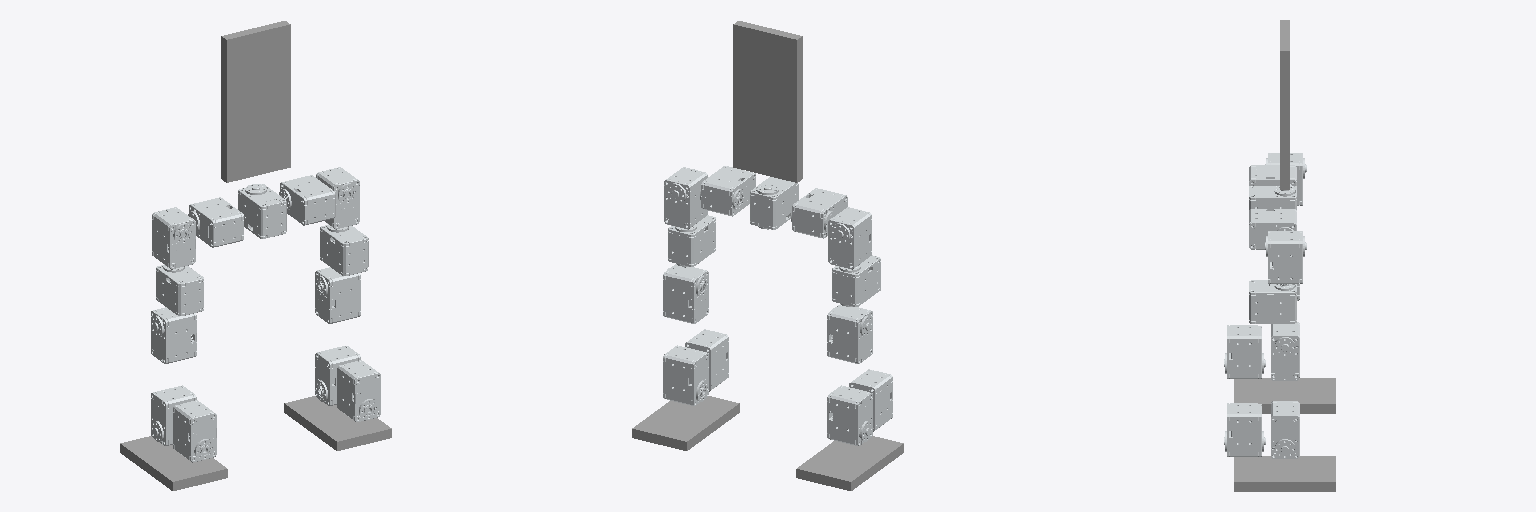
--- Facts derived from the render (not from the file) ---
The picture shows the robot from 3 angles, left to right: view 1: azimuth 30°, elevation 25°; view 2: azimuth 150°, elevation 25°; view 3: azimuth 270°, elevation 25°; orthographic projection.
Model phonebot_general_6motor with 29 links and 28 joints (13 revolute, 15 fixed), rooted at world, posed every joint at zero.
Visible links, largest first — view 1: trunk_link, l_end_effector, r_end_effector, l_ankle_roll, l_hip_roll, r_ankle_roll, l_hip_calf, r_hip_calf, base_motor_link, r_hip_pitch, r_hip_thigh, l_hip_pitch (+4 smaller); view 2: trunk_link, l_end_effector, r_end_effector, r_ankle_pitch, l_ankle_pitch, r_hip_calf, l_hip_calf, l_hip_roll, r_hip_roll, r_hip_pitch, base_motor_link, l_hip_pitch (+4 smaller); view 3: r_end_effector, l_end_effector, l_ankle_roll, r_ankle_roll, r_hip_thigh, r_hip_roll, trunk_link, r_ankle_pitch, r_hip_calf, r_hip_pitch, base_motor_link, l_hip_pitch (+1 smaller).
Boxes of the visible links, x1,y1,x2,y2 form: trunk_link: (221,21,290,182); l_end_effector: (120,436,227,490); r_end_effector: (284,396,391,450); l_ankle_roll: (173,400,216,462); l_hip_roll: (152,207,195,269); r_ankle_roll: (337,360,380,421); l_hip_calf: (151,307,196,363); r_hip_calf: (315,267,360,323); base_motor_link: (238,184,286,238); r_hip_pitch: (279,175,335,225); r_hip_thigh: (320,224,368,275); l_hip_pitch: (188,197,243,247); trunk_link: (733,21,802,182); l_end_effector: (796,436,903,490); r_end_effector: (632,396,739,450); r_ankle_pitch: (663,345,708,405); l_ankle_pitch: (827,385,872,445); r_hip_calf: (663,264,708,323); l_hip_calf: (827,304,872,363); l_hip_roll: (828,207,871,269); r_hip_roll: (664,167,707,228); r_hip_pitch: (700,166,755,216); base_motor_link: (750,177,798,229); l_hip_pitch: (791,188,847,238); r_end_effector: (1234,456,1335,491); l_end_effector: (1234,378,1335,413); l_ankle_roll: (1224,325,1265,378); r_ankle_roll: (1224,403,1265,456); r_hip_thigh: (1249,280,1296,323); r_hip_roll: (1265,231,1306,283); trunk_link: (1280,20,1289,189); r_ankle_pitch: (1271,401,1299,458); r_hip_calf: (1271,322,1299,378); r_hip_pitch: (1249,209,1296,249); base_motor_link: (1249,186,1296,209); l_hip_pitch: (1249,165,1296,185).
Bounding box of the posed robot: 0.24 × 0.11 × 0.435 m (x, y, z).
13 mesh visuals loaded from 1 distinct referenced files (1 binary STL).

The robot description file, URDF, robot "phonebot_general_6motor":
<?xml version='1.0' encoding='utf-8'?>
<robot name="phonebot_general_6motor">
  <!-- Add a world link so the robot is placed above the floor in URDF-based tools. -->
  <link name="world" />
  <joint name="world_to_base" type="fixed">
    <origin xyz="0.000000 0.000000 0.300000" rpy="0.000000 0.000000 0.000000" />
    <parent link="world" />
    <child link="base_motor_link" />
  </joint>
  <link name="base_motor_link">
    <visual>
      <origin xyz="0.000000 0.000000 0.000000" rpy="0.000000 0.000000 0.000000" />
      <geometry>
        <mesh filename="meshes/XL-430_new_coordinate_on_axis.STL" scale="0.001000 0.001000 0.001000" />
        </geometry>
      <material name="motor_mat">
        <color rgba="0.89804 0.91765 0.92941 1.0" />
        </material>
      </visual>
    <collision>
      <origin xyz="0.000000 -0.012000 0.000000" rpy="0.000000 0.000000 0.000000" />
      <geometry>
        <box size="0.028500 0.046500 0.034000" />
        </geometry>
      </collision>
    <inertial>
      <origin xyz="0.000000 -0.012000 0.000000" rpy="0.000000 0.000000 0.000000" />
      <mass value="0.065000" />
      <inertia ixx="0.000017973854" ixy="0" ixz="0" iyy="0.000010661354" iyz="0" izz="0.000016111875" />
      </inertial>
    </link>
  <link name="l_hip_pitch">
    <visual>
      <origin xyz="0.000000 0.000000 0.000000" rpy="0.000000 0.000000 0.000000" />
      <geometry>
        <mesh filename="meshes/XL-430_new_coordinate_on_axis.STL" scale="0.001000 0.001000 0.001000" />
        </geometry>
      <material name="motor_mat">
        <color rgba="0.89804 0.91765 0.92941 1.0" />
        </material>
      </visual>
    <collision>
      <origin xyz="0.000000 -0.012000 0.000000" rpy="0.000000 0.000000 0.000000" />
      <geometry>
        <box size="0.028500 0.046500 0.034000" />
        </geometry>
      </collision>
    <inertial>
      <origin xyz="0.000000 -0.012000 0.000000" rpy="0.000000 0.000000 0.000000" />
      <mass value="0.065000" />
      <inertia ixx="0.000017973854" ixy="0" ixz="0" iyy="0.000010661354" iyz="0" izz="0.000016111875" />
      </inertial>
    </link>
  <link name="l_hip_pitch_out">
    <inertial>
      <origin xyz="0.000000 0.000000 0.000000" rpy="0.000000 0.000000 0.000000" />
      <mass value="0.001000" />
      <inertia ixx="0.000000016667" ixy="0" ixz="0" iyy="0.000000016667" iyz="0" izz="0.000000016667" />
      </inertial>
    </link>
  <joint name="l_hip_pitch_mount_fixed" type="fixed">
    <origin xyz="-0.050000 0.000000 0.000000" rpy="0.000000 -1.570796 0.000000" />
    <parent link="base_motor_link" />
    <child link="l_hip_pitch" />
    </joint>
  <joint name="l_hip_pitch_joint" type="revolute">
    <origin xyz="0.000000 0.000000 0.000000" rpy="0.000000 0.000000 0.000000" />
    <parent link="l_hip_pitch" />
    <child link="l_hip_pitch_out" />
    <axis xyz="0.000000 0.000000 1.000000" />
    <limit lower="-3.14159" upper="3.14159" effort="5.0" velocity="8.0" />
    </joint>
  <link name="l_hip_roll">
    <visual>
      <origin xyz="0.000000 0.000000 0.000000" rpy="0.000000 0.000000 0.000000" />
      <geometry>
        <mesh filename="meshes/XL-430_new_coordinate_on_axis.STL" scale="0.001000 0.001000 0.001000" />
        </geometry>
      <material name="motor_mat">
        <color rgba="0.89804 0.91765 0.92941 1.0" />
        </material>
      </visual>
    <collision>
      <origin xyz="0.000000 -0.012000 0.000000" rpy="0.000000 0.000000 0.000000" />
      <geometry>
        <box size="0.028500 0.046500 0.034000" />
        </geometry>
      </collision>
    <inertial>
      <origin xyz="0.000000 -0.012000 0.000000" rpy="0.000000 0.000000 0.000000" />
      <mass value="0.065000" />
      <inertia ixx="0.000017973854" ixy="0" ixz="0" iyy="0.000010661354" iyz="0" izz="0.000016111875" />
      </inertial>
    </link>
  <link name="l_hip_roll_out">
    <inertial>
      <origin xyz="0.000000 0.000000 0.000000" rpy="0.000000 0.000000 0.000000" />
      <mass value="0.001000" />
      <inertia ixx="0.000000016667" ixy="0" ixz="0" iyy="0.000000016667" iyz="0" izz="0.000000016667" />
      </inertial>
    </link>
  <joint name="l_hip_roll_mount_fixed" type="fixed">
    <origin xyz="0.000000 0.000000 0.040000" rpy="0.000000 -1.570796 -1.570796" />
    <parent link="l_hip_pitch_out" />
    <child link="l_hip_roll" />
    </joint>
  <joint name="l_hip_roll_joint" type="revolute">
    <origin xyz="0.000000 0.000000 0.000000" rpy="0.000000 0.000000 0.000000" />
    <parent link="l_hip_roll" />
    <child link="l_hip_roll_out" />
    <axis xyz="0.000000 0.000000 1.000000" />
    <limit lower="-3.14159" upper="3.14159" effort="5.0" velocity="8.0" />
    </joint>
  <link name="l_hip_thigh">
    <visual>
      <origin xyz="0.000000 0.000000 0.000000" rpy="0.000000 0.000000 0.000000" />
      <geometry>
        <mesh filename="meshes/XL-430_new_coordinate_on_axis.STL" scale="0.001000 0.001000 0.001000" />
        </geometry>
      <material name="motor_mat">
        <color rgba="0.89804 0.91765 0.92941 1.0" />
        </material>
      </visual>
    <collision>
      <origin xyz="0.000000 -0.012000 0.000000" rpy="0.000000 0.000000 0.000000" />
      <geometry>
        <box size="0.028500 0.046500 0.034000" />
        </geometry>
      </collision>
    <inertial>
      <origin xyz="0.000000 -0.012000 0.000000" rpy="0.000000 0.000000 0.000000" />
      <mass value="0.065000" />
      <inertia ixx="0.000017973854" ixy="0" ixz="0" iyy="0.000010661354" iyz="0" izz="0.000016111875" />
      </inertial>
    </link>
  <link name="l_hip_thigh_out">
    <inertial>
      <origin xyz="0.000000 0.000000 0.000000" rpy="0.000000 0.000000 0.000000" />
      <mass value="0.001000" />
      <inertia ixx="0.000000016667" ixy="0" ixz="0" iyy="0.000000016667" iyz="0" izz="0.000000016667" />
      </inertial>
    </link>
  <joint name="l_hip_thigh_mount_fixed" type="fixed">
    <origin xyz="0.000000 -0.060000 0.000000" rpy="1.570796 0.000000 0.000000" />
    <parent link="l_hip_roll_out" />
    <child link="l_hip_thigh" />
    </joint>
  <joint name="l_hip_thigh_joint" type="revolute">
    <origin xyz="0.000000 0.000000 0.000000" rpy="0.000000 0.000000 0.000000" />
    <parent link="l_hip_thigh" />
    <child link="l_hip_thigh_out" />
    <axis xyz="0.000000 0.000000 1.000000" />
    <limit lower="-3.14159" upper="3.14159" effort="5.0" velocity="8.0" />
    </joint>
  <link name="l_hip_calf">
    <visual>
      <origin xyz="0.000000 0.000000 0.000000" rpy="0.000000 0.000000 0.000000" />
      <geometry>
        <mesh filename="meshes/XL-430_new_coordinate_on_axis.STL" scale="0.001000 0.001000 0.001000" />
        </geometry>
      <material name="motor_mat">
        <color rgba="0.89804 0.91765 0.92941 1.0" />
        </material>
      </visual>
    <collision>
      <origin xyz="0.000000 -0.012000 0.000000" rpy="0.000000 0.000000 0.000000" />
      <geometry>
        <box size="0.028500 0.046500 0.034000" />
        </geometry>
      </collision>
    <inertial>
      <origin xyz="0.000000 -0.012000 0.000000" rpy="0.000000 0.000000 0.000000" />
      <mass value="0.065000" />
      <inertia ixx="0.000017973854" ixy="0" ixz="0" iyy="0.000010661354" iyz="0" izz="0.000016111875" />
      </inertial>
    </link>
  <link name="l_hip_calf_out">
    <inertial>
      <origin xyz="0.000000 0.000000 0.000000" rpy="0.000000 0.000000 0.000000" />
      <mass value="0.001000" />
      <inertia ixx="0.000000016667" ixy="0" ixz="0" iyy="0.000000016667" iyz="0" izz="0.000000016667" />
      </inertial>
    </link>
  <joint name="l_hip_calf_joint" type="revolute">
    <origin xyz="0.000000 0.000000 0.040000" rpy="-1.570796 0.000000 -1.570796" />
    <parent link="l_hip_thigh_out" />
    <child link="l_hip_calf" />
    <axis xyz="0.000000 0.000000 1.000000" />
    <limit lower="-3.14159" upper="3.14159" effort="5.0" velocity="8.0" />
    </joint>
  <joint name="l_hip_calf_to_out_fixed" type="fixed">
    <origin xyz="0.000000 0.000000 0.000000" rpy="0.000000 0.000000 0.000000" />
    <parent link="l_hip_calf" />
    <child link="l_hip_calf_out" />
    </joint>
  <link name="l_ankle_pitch">
    <visual>
      <origin xyz="0.000000 0.000000 0.000000" rpy="0.000000 0.000000 0.000000" />
      <geometry>
        <mesh filename="meshes/XL-430_new_coordinate_on_axis.STL" scale="0.001000 0.001000 0.001000" />
        </geometry>
      <material name="motor_mat">
        <color rgba="0.89804 0.91765 0.92941 1.0" />
        </material>
      </visual>
    <collision>
      <origin xyz="0.000000 -0.012000 0.000000" rpy="0.000000 0.000000 0.000000" />
      <geometry>
        <box size="0.028500 0.046500 0.034000" />
        </geometry>
      </collision>
    <inertial>
      <origin xyz="0.000000 -0.012000 0.000000" rpy="0.000000 0.000000 0.000000" />
      <mass value="0.065000" />
      <inertia ixx="0.000017973854" ixy="0" ixz="0" iyy="0.000010661354" iyz="0" izz="0.000016111875" />
      </inertial>
    </link>
  <link name="l_ankle_pitch_out">
    <inertial>
      <origin xyz="0.000000 0.000000 0.000000" rpy="0.000000 0.000000 0.000000" />
      <mass value="0.001000" />
      <inertia ixx="0.000000016667" ixy="0" ixz="0" iyy="0.000000016667" iyz="0" izz="0.000000016667" />
      </inertial>
    </link>
  <joint name="l_ankle_pitch_joint" type="revolute">
    <origin xyz="0.000000 -0.110000 0.000000" rpy="0.000000 0.000000 3.141593" />
    <parent link="l_hip_calf_out" />
    <child link="l_ankle_pitch" />
    <axis xyz="0.000000 0.000000 1.000000" />
    <limit lower="-3.14159" upper="3.14159" effort="5.0" velocity="8.0" />
    </joint>
  <joint name="l_ankle_pitch_to_out_fixed" type="fixed">
    <origin xyz="0.000000 0.000000 0.000000" rpy="0.000000 0.000000 0.000000" />
    <parent link="l_ankle_pitch" />
    <child link="l_ankle_pitch_out" />
    </joint>
  <link name="l_ankle_roll">
    <visual>
      <origin xyz="0.000000 0.000000 0.000000" rpy="0.000000 0.000000 0.000000" />
      <geometry>
        <mesh filename="meshes/XL-430_new_coordinate_on_axis.STL" scale="0.001000 0.001000 0.001000" />
        </geometry>
      <material name="motor_mat">
        <color rgba="0.89804 0.91765 0.92941 1.0" />
        </material>
      </visual>
    <collision>
      <origin xyz="0.000000 -0.012000 0.000000" rpy="0.000000 0.000000 0.000000" />
      <geometry>
        <box size="0.028500 0.046500 0.034000" />
        </geometry>
      </collision>
    <inertial>
      <origin xyz="0.000000 -0.012000 0.000000" rpy="0.000000 0.000000 0.000000" />
      <mass value="0.065000" />
      <inertia ixx="0.000017973854" ixy="0" ixz="0" iyy="0.000010661354" iyz="0" izz="0.000016111875" />
      </inertial>
    </link>
  <link name="l_ankle_roll_out">
    <inertial>
      <origin xyz="0.000000 0.000000 0.000000" rpy="0.000000 0.000000 0.000000" />
      <mass value="0.001000" />
      <inertia ixx="0.000000016667" ixy="0" ixz="0" iyy="0.000000016667" iyz="0" izz="0.000000016667" />
      </inertial>
    </link>
  <joint name="l_ankle_roll_mount_fixed" type="fixed">
    <origin xyz="-0.040000 0.000000 0.000000" rpy="0.000000 1.570796 0.000000" />
    <parent link="l_ankle_pitch_out" />
    <child link="l_ankle_roll" />
    </joint>
  <joint name="l_ankle_roll_joint" type="revolute">
    <origin xyz="0.000000 0.000000 0.000000" rpy="0.000000 0.000000 0.000000" />
    <parent link="l_ankle_roll" />
    <child link="l_ankle_roll_out" />
    <axis xyz="0.000000 0.000000 1.000000" />
    <limit lower="-3.14159" upper="3.14159" effort="5.0" velocity="8.0" />
    </joint>
  <link name="l_end_effector">
    <visual>
      <origin xyz="0.000000 0.000000 0.000000" rpy="0.000000 0.000000 0.000000" />
      <geometry>
        <box size="0.100000 0.060000 0.010000" />
        </geometry>
      <material name="box_mat">
        <color rgba="0.7 0.7 0.7 1.0" />
        </material>
      </visual>
    <collision>
      <origin xyz="0.000000 0.000000 0.000000" rpy="0.000000 0.000000 0.000000" />
      <geometry>
        <box size="0.100000 0.060000 0.010000" />
        </geometry>
      </collision>
    <inertial>
      <origin xyz="0.000000 0.000000 0.000000" rpy="0.000000 0.000000 0.000000" />
      <mass value="0.050000" />
      <inertia ixx="0.000015416667" ixy="0" ixz="0" iyy="0.000042083333" iyz="0" izz="0.000056666667" />
      </inertial>
    </link>
  <joint name="l_end_effector_fixed" type="fixed">
    <origin xyz="0.000000 0.035000 0.040000" rpy="1.570796 -1.570796 0.000000" />
    <parent link="l_ankle_roll_out" />
    <child link="l_end_effector" />
    </joint>
  <link name="r_hip_pitch">
    <visual>
      <origin xyz="0.000000 0.000000 0.000000" rpy="0.000000 0.000000 0.000000" />
      <geometry>
        <mesh filename="meshes/XL-430_new_coordinate_on_axis.STL" scale="0.001000 0.001000 0.001000" />
        </geometry>
      <material name="motor_mat">
        <color rgba="0.89804 0.91765 0.92941 1.0" />
        </material>
      </visual>
    <collision>
      <origin xyz="0.000000 -0.012000 0.000000" rpy="0.000000 0.000000 0.000000" />
      <geometry>
        <box size="0.028500 0.046500 0.034000" />
        </geometry>
      </collision>
    <inertial>
      <origin xyz="0.000000 -0.012000 0.000000" rpy="0.000000 0.000000 0.000000" />
      <mass value="0.065000" />
      <inertia ixx="0.000017973854" ixy="0" ixz="0" iyy="0.000010661354" iyz="0" izz="0.000016111875" />
      </inertial>
    </link>
  <link name="r_hip_pitch_out">
    <inertial>
      <origin xyz="0.000000 0.000000 0.000000" rpy="0.000000 0.000000 0.000000" />
      <mass value="0.001000" />
      <inertia ixx="0.000000016667" ixy="0" ixz="0" iyy="0.000000016667" iyz="0" izz="0.000000016667" />
      </inertial>
    </link>
  <joint name="r_hip_pitch_mount_fixed" type="fixed">
    <origin xyz="0.050000 0.000000 0.000000" rpy="0.000000 1.570796 -0.000000" />
    <parent link="base_motor_link" />
    <child link="r_hip_pitch" />
    </joint>
  <joint name="r_hip_pitch_joint" type="revolute">
    <origin xyz="0.000000 0.000000 0.000000" rpy="0.000000 0.000000 0.000000" />
    <parent link="r_hip_pitch" />
    <child link="r_hip_pitch_out" />
    <axis xyz="0.000000 0.000000 1.000000" />
    <limit lower="-3.14159" upper="3.14159" effort="5.0" velocity="8.0" />
    </joint>
  <link name="r_hip_roll">
    <visual>
      <origin xyz="0.000000 0.000000 0.000000" rpy="0.000000 0.000000 0.000000" />
      <geometry>
        <mesh filename="meshes/XL-430_new_coordinate_on_axis.STL" scale="0.001000 0.001000 0.001000" />
        </geometry>
      <material name="motor_mat">
        <color rgba="0.89804 0.91765 0.92941 1.0" />
        </material>
      </visual>
    <collision>
      <origin xyz="0.000000 -0.012000 0.000000" rpy="0.000000 0.000000 0.000000" />
      <geometry>
        <box size="0.028500 0.046500 0.034000" />
        </geometry>
      </collision>
    <inertial>
      <origin xyz="0.000000 -0.012000 0.000000" rpy="0.000000 0.000000 0.000000" />
      <mass value="0.065000" />
      <inertia ixx="0.000017973854" ixy="0" ixz="0" iyy="0.000010661354" iyz="0" izz="0.000016111875" />
      </inertial>
    </link>
  <link name="r_hip_roll_out">
    <inertial>
      <origin xyz="0.000000 0.000000 0.000000" rpy="0.000000 0.000000 0.000000" />
      <mass value="0.001000" />
      <inertia ixx="0.000000016667" ixy="0" ixz="0" iyy="0.000000016667" iyz="0" izz="0.000000016667" />
      </inertial>
    </link>
  <joint name="r_hip_roll_mount_fixed" type="fixed">
    <origin xyz="-0.000000 0.000000 0.040000" rpy="0.000000 1.570796 1.570796" />
    <parent link="r_hip_pitch_out" />
    <child link="r_hip_roll" />
    </joint>
  <joint name="r_hip_roll_joint" type="revolute">
    <origin xyz="0.000000 0.000000 0.000000" rpy="0.000000 0.000000 0.000000" />
    <parent link="r_hip_roll" />
    <child link="r_hip_roll_out" />
    <axis xyz="0.000000 0.000000 1.000000" />
    <limit lower="-3.14159" upper="3.14159" effort="5.0" velocity="8.0" />
    </joint>
  <link name="r_hip_thigh">
    <visual>
      <origin xyz="0.000000 0.000000 0.000000" rpy="0.000000 0.000000 0.000000" />
      <geometry>
        <mesh filename="meshes/XL-430_new_coordinate_on_axis.STL" scale="0.001000 0.001000 0.001000" />
        </geometry>
      <material name="motor_mat">
        <color rgba="0.89804 0.91765 0.92941 1.0" />
        </material>
      </visual>
    <collision>
      <origin xyz="0.000000 -0.012000 0.000000" rpy="0.000000 0.000000 0.000000" />
      <geometry>
        <box size="0.028500 0.046500 0.034000" />
        </geometry>
      </collision>
    <inertial>
      <origin xyz="0.000000 -0.012000 0.000000" rpy="0.000000 0.000000 0.000000" />
      <mass value="0.065000" />
      <inertia ixx="0.000017973854" ixy="0" ixz="0" iyy="0.000010661354" iyz="0" izz="0.000016111875" />
      </inertial>
    </link>
  <link name="r_hip_thigh_out">
    <inertial>
      <origin xyz="0.000000 0.000000 0.000000" rpy="0.000000 0.000000 0.000000" />
      <mass value="0.001000" />
      <inertia ixx="0.000000016667" ixy="0" ixz="0" iyy="0.000000016667" iyz="0" izz="0.000000016667" />
      </inertial>
    </link>
  <joint name="r_hip_thigh_mount_fixed" type="fixed">
    <origin xyz="-0.000000 -0.060000 0.000000" rpy="1.570796 -0.000000 0.000000" />
    <parent link="r_hip_roll_out" />
    <child link="r_hip_thigh" />
    </joint>
  <joint name="r_hip_thigh_joint" type="revolute">
    <origin xyz="0.000000 0.000000 0.000000" rpy="0.000000 0.000000 0.000000" />
    <parent link="r_hip_thigh" />
    <child link="r_hip_thigh_out" />
    <axis xyz="0.000000 0.000000 1.000000" />
    <limit lower="-3.14159" upper="3.14159" effort="5.0" velocity="8.0" />
    </joint>
  <link name="r_hip_calf">
    <visual>
      <origin xyz="0.000000 0.000000 0.000000" rpy="0.000000 0.000000 0.000000" />
      <geometry>
        <mesh filename="meshes/XL-430_new_coordinate_on_axis.STL" scale="0.001000 0.001000 0.001000" />
        </geometry>
      <material name="motor_mat">
        <color rgba="0.89804 0.91765 0.92941 1.0" />
        </material>
      </visual>
    <collision>
      <origin xyz="0.000000 -0.012000 0.000000" rpy="0.000000 0.000000 0.000000" />
      <geometry>
        <box size="0.028500 0.046500 0.034000" />
        </geometry>
      </collision>
    <inertial>
      <origin xyz="0.000000 -0.012000 0.000000" rpy="0.000000 0.000000 0.000000" />
      <mass value="0.065000" />
      <inertia ixx="0.000017973854" ixy="0" ixz="0" iyy="0.000010661354" iyz="0" izz="0.000016111875" />
      </inertial>
    </link>
  <link name="r_hip_calf_out">
    <inertial>
      <origin xyz="0.000000 0.000000 0.000000" rpy="0.000000 0.000000 0.000000" />
      <mass value="0.001000" />
      <inertia ixx="0.000000016667" ixy="0" ixz="0" iyy="0.000000016667" iyz="0" izz="0.000000016667" />
      </inertial>
    </link>
  <joint name="r_hip_calf_joint" type="revolute">
    <origin xyz="-0.000000 0.000000 0.040000" rpy="-1.570796 -0.000000 1.570796" />
    <parent link="r_hip_thigh_out" />
    <child link="r_hip_calf" />
    <axis xyz="0.000000 0.000000 1.000000" />
    <limit lower="-3.14159" upper="3.14159" effort="5.0" velocity="8.0" />
    </joint>
  <joint name="r_hip_calf_to_out_fixed" type="fixed">
    <origin xyz="0.000000 0.000000 0.000000" rpy="0.000000 0.000000 0.000000" />
    <parent link="r_hip_calf" />
    <child link="r_hip_calf_out" />
    </joint>
  <link name="r_ankle_pitch">
    <visual>
      <origin xyz="0.000000 0.000000 0.000000" rpy="0.000000 0.000000 0.000000" />
      <geometry>
        <mesh filename="meshes/XL-430_new_coordinate_on_axis.STL" scale="0.001000 0.001000 0.001000" />
        </geometry>
      <material name="motor_mat">
        <color rgba="0.89804 0.91765 0.92941 1.0" />
        </material>
      </visual>
    <collision>
      <origin xyz="0.000000 -0.012000 0.000000" rpy="0.000000 0.000000 0.000000" />
      <geometry>
        <box size="0.028500 0.046500 0.034000" />
        </geometry>
      </collision>
    <inertial>
      <origin xyz="0.000000 -0.012000 0.000000" rpy="0.000000 0.000000 0.000000" />
      <mass value="0.065000" />
      <inertia ixx="0.000017973854" ixy="0" ixz="0" iyy="0.000010661354" iyz="0" izz="0.000016111875" />
      </inertial>
    </link>
  <link name="r_ankle_pitch_out">
    <inertial>
      <origin xyz="0.000000 0.000000 0.000000" rpy="0.000000 0.000000 0.000000" />
      <mass value="0.001000" />
      <inertia ixx="0.000000016667" ixy="0" ixz="0" iyy="0.000000016667" iyz="0" izz="0.000000016667" />
      </inertial>
    </link>
  <joint name="r_ankle_pitch_joint" type="revolute">
    <origin xyz="-0.000000 -0.110000 0.000000" rpy="0.000000 -0.000000 -3.141593" />
    <parent link="r_hip_calf_out" />
    <child link="r_ankle_pitch" />
    <axis xyz="0.000000 0.000000 1.000000" />
    <limit lower="-3.14159" upper="3.14159" effort="5.0" velocity="8.0" />
    </joint>
  <joint name="r_ankle_pitch_to_out_fixed" type="fixed">
    <origin xyz="0.000000 0.000000 0.000000" rpy="0.000000 0.000000 0.000000" />
    <parent link="r_ankle_pitch" />
    <child link="r_ankle_pitch_out" />
    </joint>
  <link name="r_ankle_roll">
    <visual>
      <origin xyz="0.000000 0.000000 0.000000" rpy="0.000000 0.000000 0.000000" />
      <geometry>
        <mesh filename="meshes/XL-430_new_coordinate_on_axis.STL" scale="0.001000 0.001000 0.001000" />
        </geometry>
      <material name="motor_mat">
        <color rgba="0.89804 0.91765 0.92941 1.0" />
        </material>
      </visual>
    <collision>
      <origin xyz="0.000000 -0.012000 0.000000" rpy="0.000000 0.000000 0.000000" />
      <geometry>
        <box size="0.028500 0.046500 0.034000" />
        </geometry>
      </collision>
    <inertial>
      <origin xyz="0.000000 -0.012000 0.000000" rpy="0.000000 0.000000 0.000000" />
      <mass value="0.065000" />
      <inertia ixx="0.000017973854" ixy="0" ixz="0" iyy="0.000010661354" iyz="0" izz="0.000016111875" />
      </inertial>
    </link>
  <link name="r_ankle_roll_out">
    <inertial>
      <origin xyz="0.000000 0.000000 0.000000" rpy="0.000000 0.000000 0.000000" />
      <mass value="0.001000" />
      <inertia ixx="0.000000016667" ixy="0" ixz="0" iyy="0.000000016667" iyz="0" izz="0.000000016667" />
      </inertial>
    </link>
  <joint name="r_ankle_roll_mount_fixed" type="fixed">
    <origin xyz="0.040000 0.000000 0.000000" rpy="0.000000 -1.570796 -0.000000" />
    <parent link="r_ankle_pitch_out" />
    <child link="r_ankle_roll" />
    </joint>
  <joint name="r_ankle_roll_joint" type="revolute">
    <origin xyz="0.000000 0.000000 0.000000" rpy="0.000000 0.000000 0.000000" />
    <parent link="r_ankle_roll" />
    <child link="r_ankle_roll_out" />
    <axis xyz="0.000000 0.000000 1.000000" />
    <limit lower="-3.14159" upper="3.14159" effort="5.0" velocity="8.0" />
    </joint>
  <link name="r_end_effector">
    <visual>
      <origin xyz="0.000000 0.000000 0.000000" rpy="0.000000 0.000000 0.000000" />
      <geometry>
        <box size="0.100000 0.060000 0.010000" />
        </geometry>
      <material name="box_mat">
        <color rgba="0.7 0.7 0.7 1.0" />
        </material>
      </visual>
    <collision>
      <origin xyz="0.000000 0.000000 0.000000" rpy="0.000000 0.000000 0.000000" />
      <geometry>
        <box size="0.100000 0.060000 0.010000" />
        </geometry>
      </collision>
    <inertial>
      <origin xyz="0.000000 0.000000 0.000000" rpy="0.000000 0.000000 0.000000" />
      <mass value="0.050000" />
      <inertia ixx="0.000015416667" ixy="0" ixz="0" iyy="0.000042083333" iyz="0" izz="0.000056666667" />
      </inertial>
    </link>
  <joint name="r_end_effector_fixed" type="fixed">
    <origin xyz="-0.000000 0.035000 0.040000" rpy="0.000000 1.570796 -1.570796" />
    <parent link="r_ankle_roll_out" />
    <child link="r_end_effector" />
    </joint>
  <link name="trunk_link">
    <visual>
      <origin xyz="0.000000 0.000000 0.000000" rpy="0.000000 0.000000 0.000000" />
      <geometry>
        <box size="0.070000 0.010000 0.150000" />
        </geometry>
      <material name="box_mat">
        <color rgba="0.7 0.7 0.7 1.0" />
        </material>
      </visual>
    <collision>
      <origin xyz="0.000000 0.000000 0.000000" rpy="0.000000 0.000000 0.000000" />
      <geometry>
        <box size="0.070000 0.010000 0.150000" />
        </geometry>
      </collision>
    <inertial>
      <origin xyz="0.000000 0.000000 0.000000" rpy="0.000000 0.000000 0.000000" />
      <mass value="0.300000" />
      <inertia ixx="0.000565000000" ixy="0" ixz="0" iyy="0.000685000000" iyz="0" izz="0.000125000000" />
      </inertial>
    </link>
  <joint name="base_to_trunk" type="revolute">
    <origin xyz="0.000000 0.000000 0.110000" rpy="0.000000 0.000000 0.000000" />
    <parent link="base_motor_link" />
    <child link="trunk_link" />
    <axis xyz="0.000000 0.000000 1.000000" />
    <limit lower="-3.14159" upper="3.14159" effort="5.0" velocity="8.0" />
    </joint>
  </robot>
